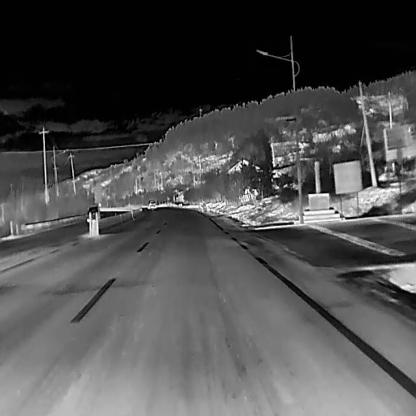car: (85, 204, 100, 224), (146, 199, 157, 211)
